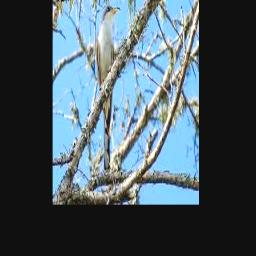Cuckoo: (95, 5, 119, 176)
